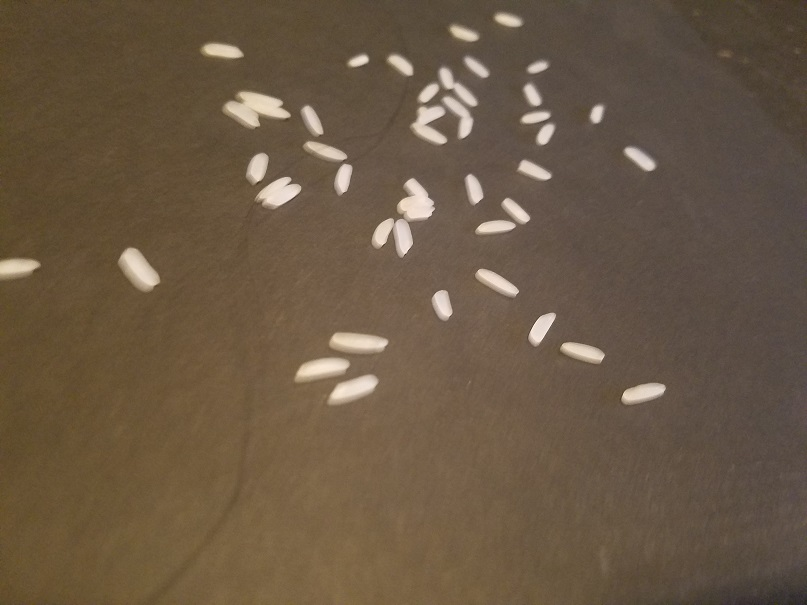egg: (321, 373, 381, 408), (292, 354, 353, 384), (119, 247, 162, 289), (470, 266, 522, 298), (558, 341, 609, 367), (327, 331, 392, 351), (621, 380, 671, 404), (261, 182, 303, 210), (528, 310, 558, 349), (240, 97, 293, 119), (253, 174, 293, 203), (224, 100, 264, 128), (368, 216, 399, 252), (303, 140, 350, 162), (623, 146, 660, 172), (499, 195, 532, 223), (300, 104, 328, 137), (409, 122, 449, 145), (517, 159, 554, 183), (393, 218, 414, 259), (245, 151, 270, 185), (1, 257, 42, 277), (235, 89, 285, 105), (200, 41, 244, 59), (465, 171, 486, 208), (431, 287, 454, 320), (452, 81, 480, 106), (447, 23, 481, 43), (462, 55, 491, 78), (415, 105, 446, 126), (387, 53, 414, 76), (333, 163, 353, 194), (475, 220, 516, 235), (403, 177, 430, 199), (442, 95, 470, 116), (536, 120, 556, 147), (397, 195, 435, 209), (524, 82, 544, 108), (437, 63, 456, 90), (518, 110, 553, 124), (491, 12, 522, 27), (417, 83, 439, 104), (456, 115, 474, 140), (523, 60, 551, 75), (587, 103, 605, 126), (401, 207, 434, 219), (347, 53, 369, 69), (417, 105, 429, 115)
